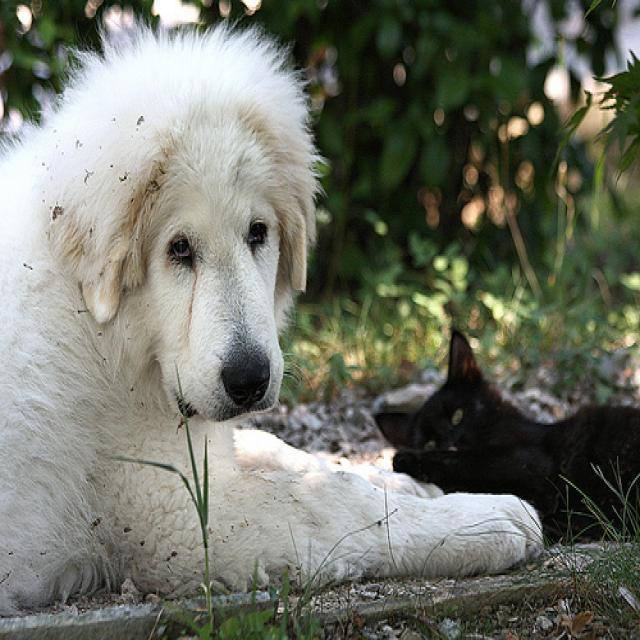dog-great_pyrenees: (1, 7, 548, 626)
